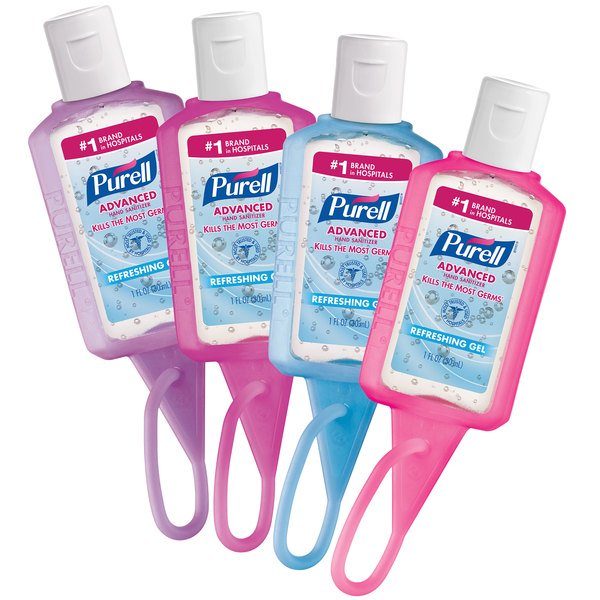Sanitizer: (357, 63, 578, 436), (267, 26, 443, 395), (154, 5, 321, 365), (21, 4, 188, 355)
